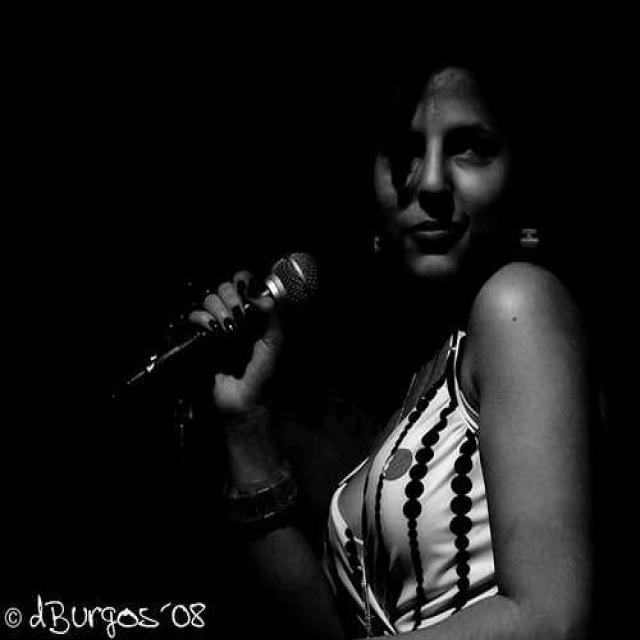microphone: (113, 248, 314, 399)
